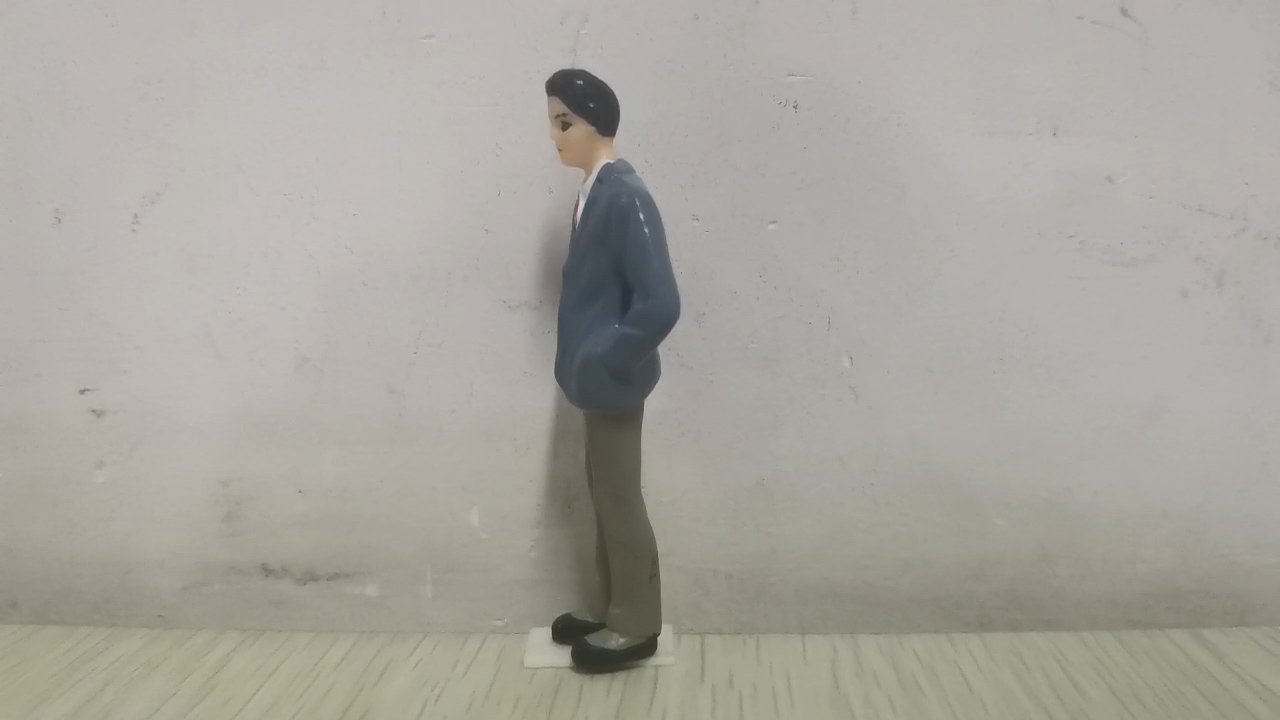person: (539, 66, 686, 668)
